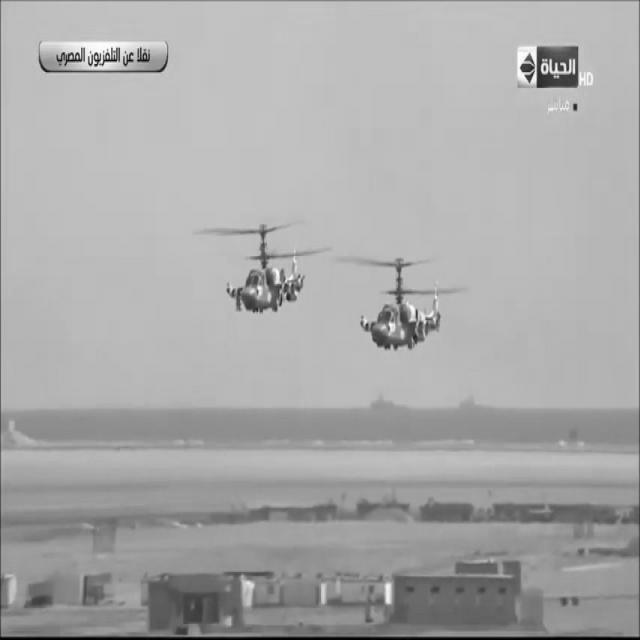helikopter: (192, 212, 317, 332), (348, 249, 465, 368)
